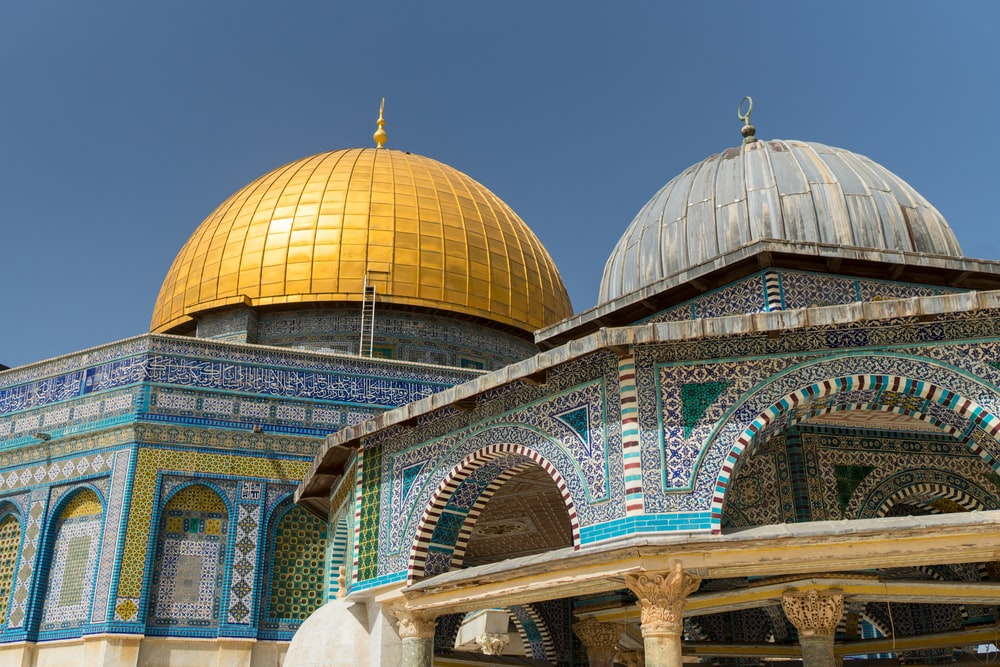Mosque: (10, 66, 979, 639)
